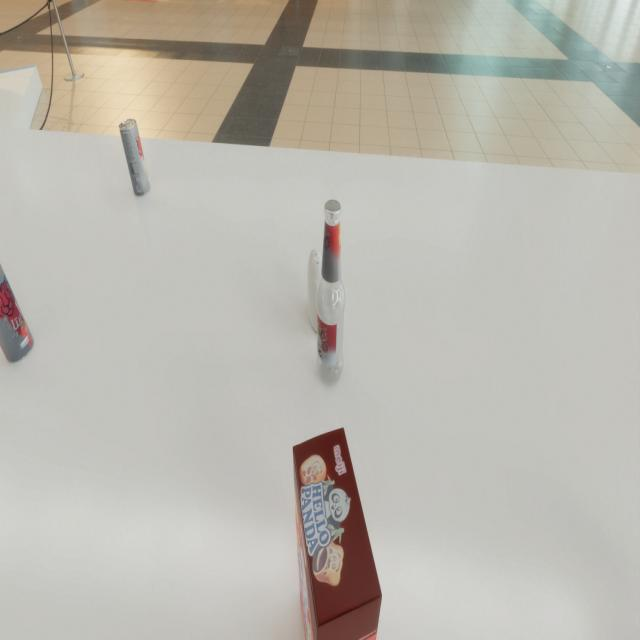Bottle: (316, 200, 347, 385)
HelloPanda: (293, 427, 382, 640)
Rita_zero_sugar: (119, 118, 150, 196)
Salt: (307, 248, 331, 334)
